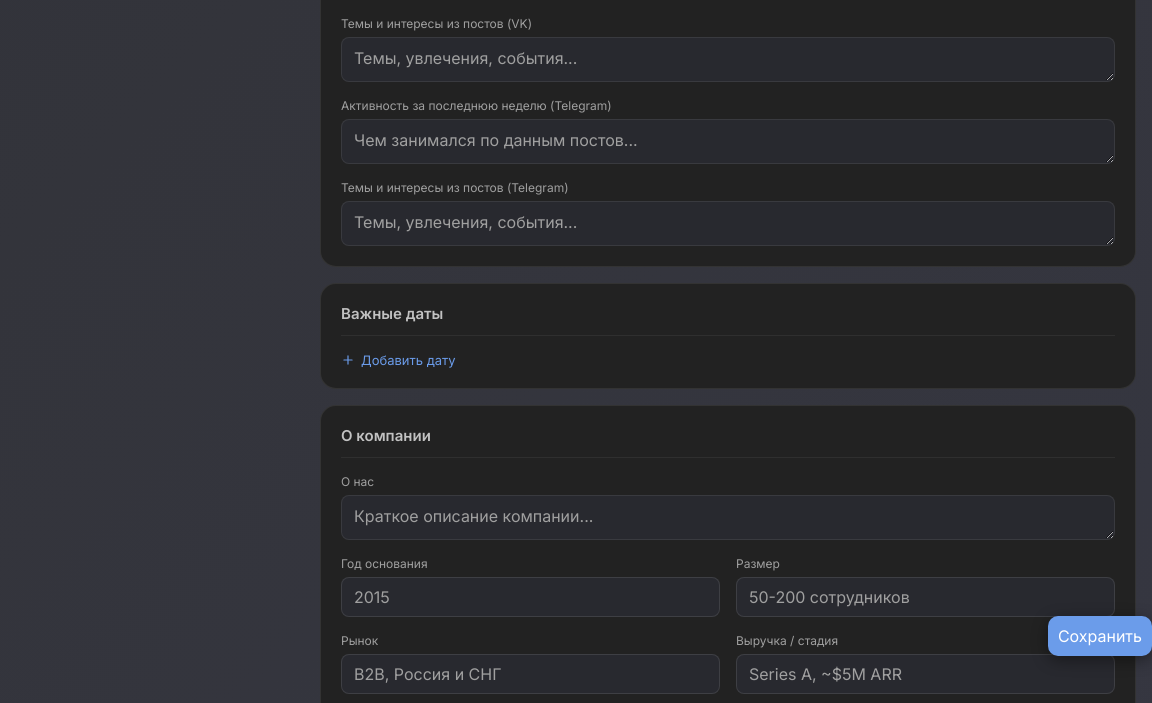
Test: ContactPage › important dates › "Добавить дату" adds an empty date row
(page scrolled)
Click the button "Добавить дату". click: point(398, 360)
box: [341,352,456,368]
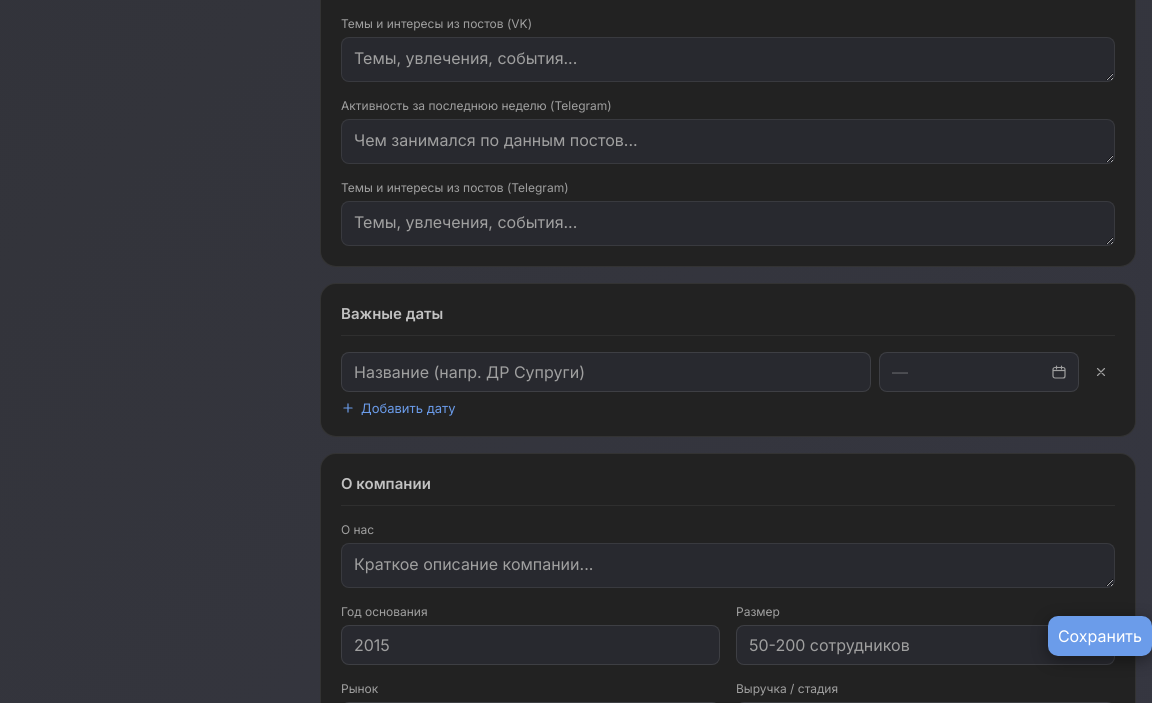
Expected: the field with placeholder "Название (напр. ДР Супруги)" is shown, [341,352,871,392]
